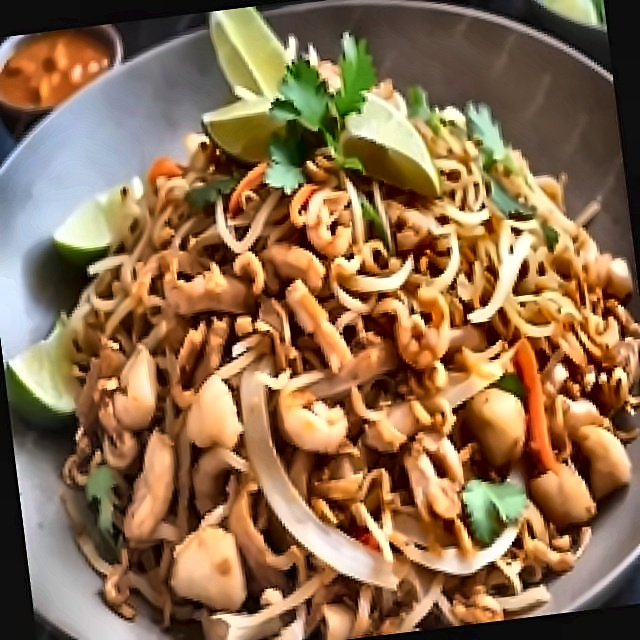lime_wedge: (332, 85, 440, 205), (45, 175, 148, 269), (208, 2, 296, 102), (2, 325, 82, 433), (208, 2, 290, 102), (202, 95, 286, 167)
noodle: (0, 73, 640, 640)
shrimp: (270, 378, 350, 460), (178, 374, 240, 452)
